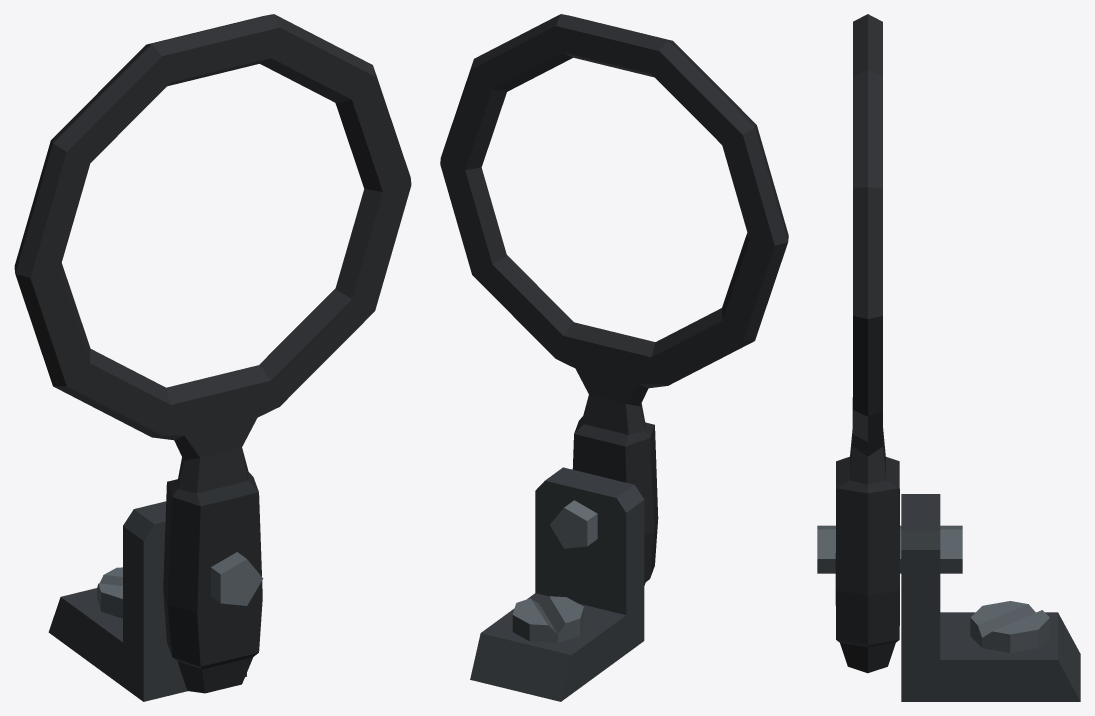
The model's file is SM_Wep_Attach_Magnifying_01.obj.
3 renders of one model, left to right at view 1: azimuth 30°, elevation 25°; view 2: azimuth 150°, elevation 25°; view 3: azimuth 270°, elevation 25°, orthographic. The views are drawn at different scales.
Parts seen in each view (by area): view 1: SM_Wep_Attach_Magnifying_01_0; view 2: SM_Wep_Attach_Magnifying_01_0; view 3: SM_Wep_Attach_Magnifying_01_0.
Boxes of the visible parts, bbox=[...] form: SM_Wep_Attach_Magnifying_01_0: bbox=[14, 14, 411, 701]; SM_Wep_Attach_Magnifying_01_0: bbox=[440, 14, 788, 701]; SM_Wep_Attach_Magnifying_01_0: bbox=[817, 14, 1080, 701].
Bounding box in the file's own units: 0.1679 × 0.2732 × 0.1026.
Materials: 1 (1 with a texture image).
